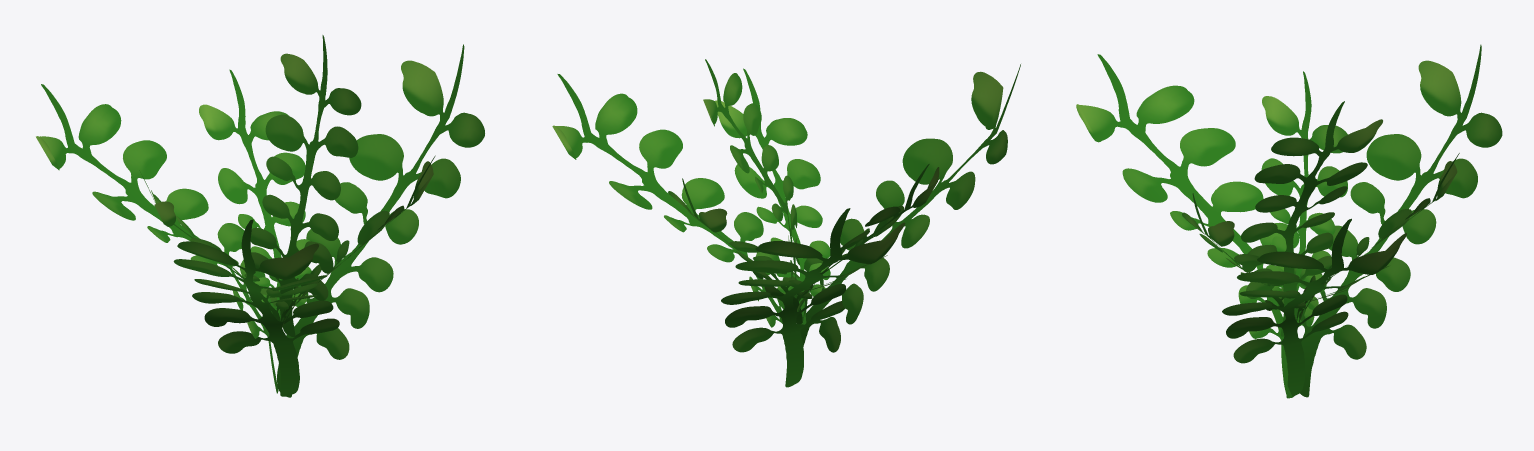
Rendered from Bukszpan.fbx.
The picture shows the model from 3 angles, left to right: view 1: azimuth 30°, elevation 25°; view 2: azimuth 150°, elevation 25°; view 3: azimuth 270°, elevation 25°; orthographic projection.
Parts seen in each view (by area): view 1: Plane.030; view 2: Plane.030; view 3: Plane.030.
Part boxes in pixels (left/top/right/bottom): Plane.030: left=36, top=35, right=484, bottom=397; Plane.030: left=552, top=59, right=1020, bottom=387; Plane.030: left=1076, top=44, right=1502, bottom=398.
Bounding box in the file's own units: 229 × 190 × 227.
Materials: 1 (1 with a texture image).
